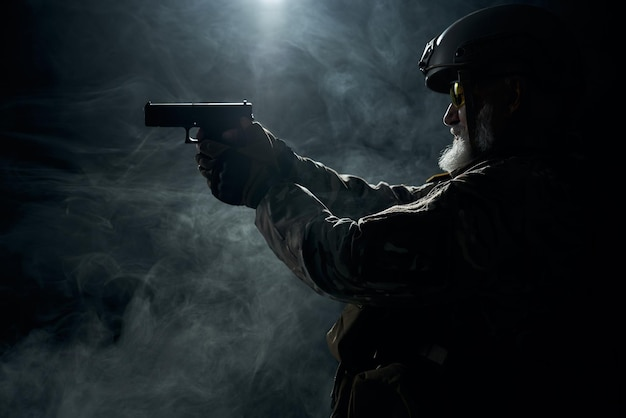gun: (142, 101, 254, 147)
